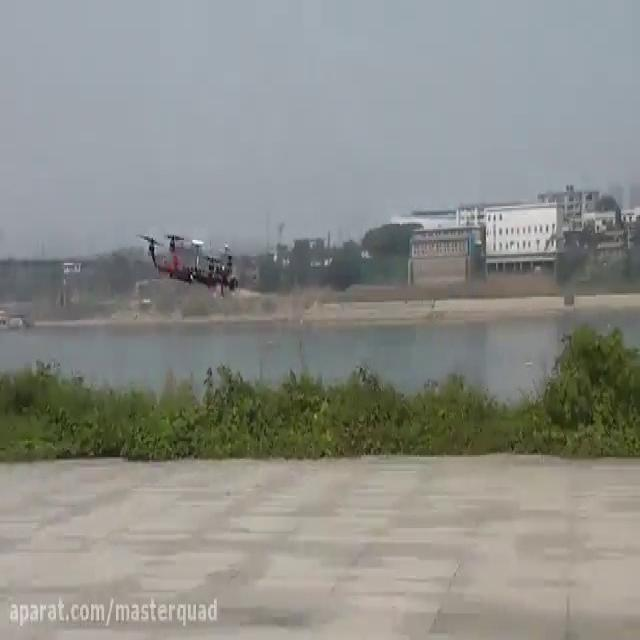drone: (134, 228, 241, 298)
